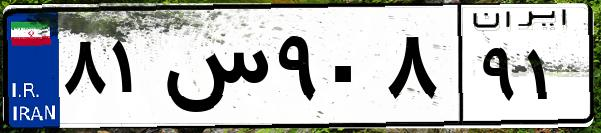0: (330, 28, 385, 110)
1: (525, 38, 570, 115), (110, 28, 158, 98)
8: (385, 28, 445, 110), (57, 26, 110, 100)
9: (270, 28, 330, 110), (475, 38, 525, 113)
س: (158, 20, 270, 120)
